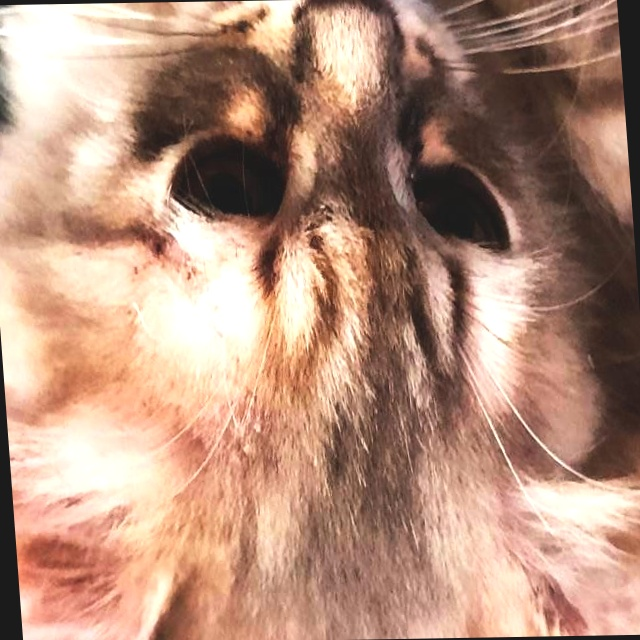hairloss: (168, 235, 264, 348)
